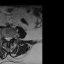CCS_stenosis: (7, 35, 9, 44)
LFS_normal: (10, 33, 13, 40)
LLS_normal: (9, 34, 10, 41)
RFS_normal: (3, 33, 5, 41)
RLS_normal: (5, 35, 7, 41)
